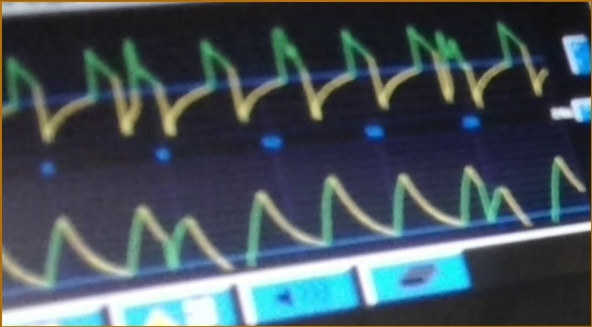Double_Triggering Flow: (66, 21, 488, 138)
Double_Triggering Volume: (67, 163, 531, 276)
